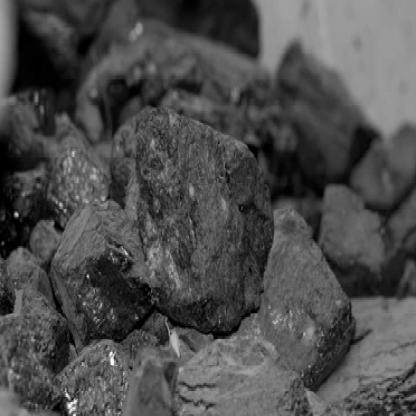Sedimentary_coal: (142, 116, 280, 333), (252, 199, 354, 373), (58, 194, 160, 345), (165, 319, 311, 414), (59, 340, 171, 414)
